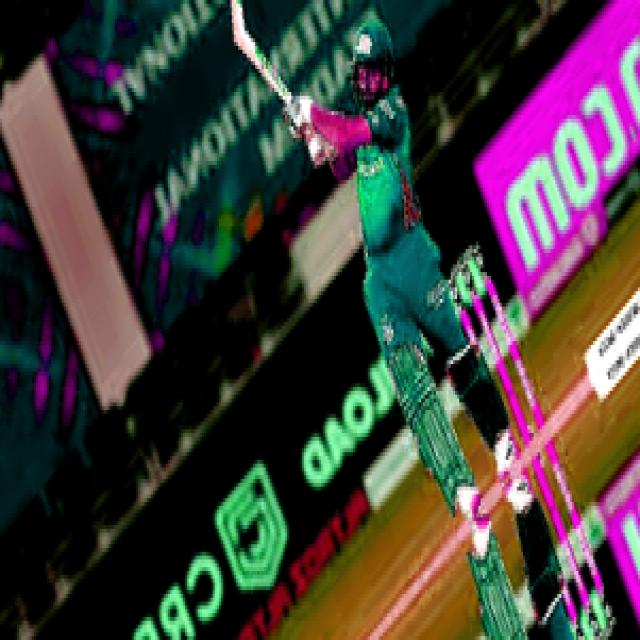toe: (236, 33, 258, 59)
